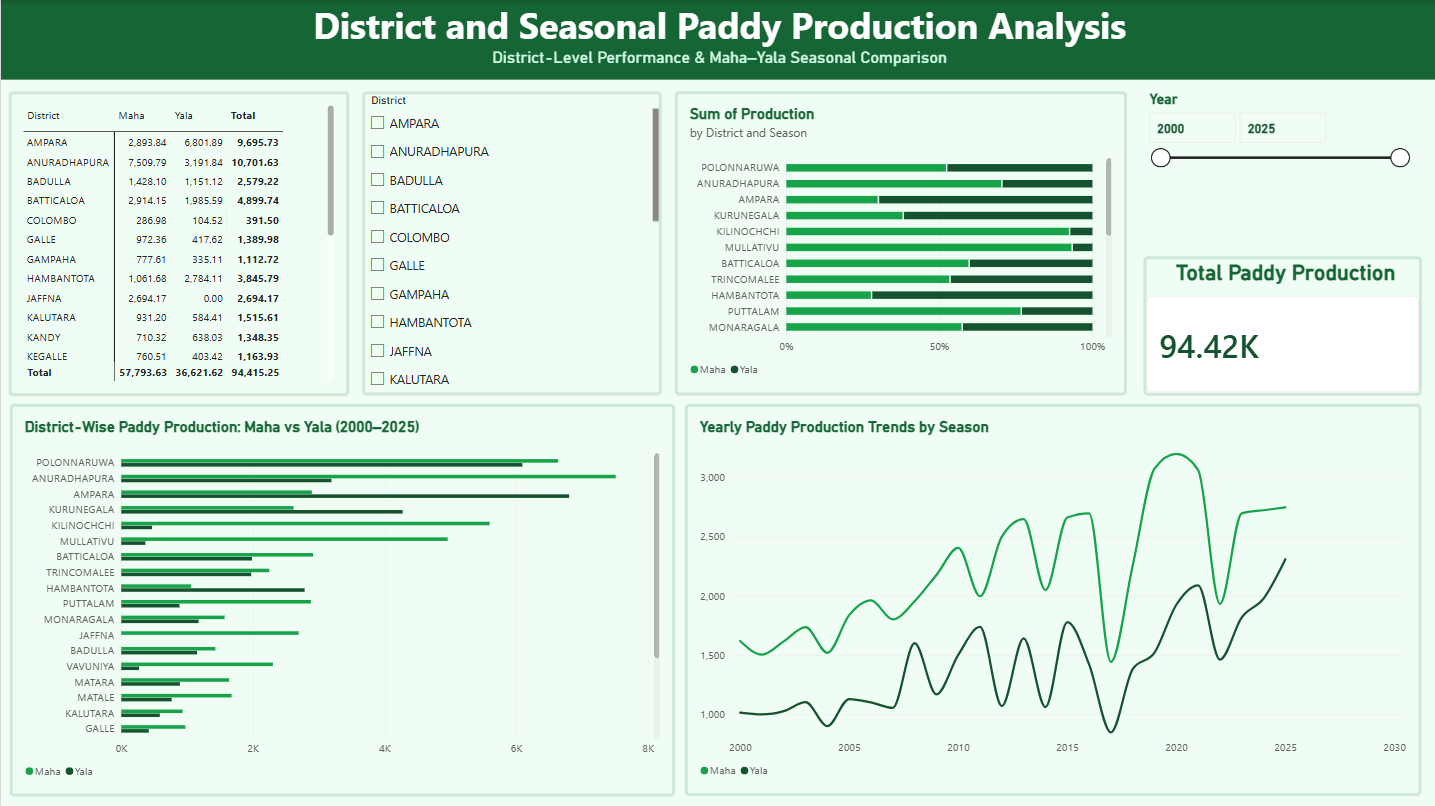

The dashboard page shown, as its layout file describes it:
{"tool":"powerbi","page":{"name":"District & Seasonal Analysis","canvas":[1920,1080],"ordinal":1},"visuals":[{"type":"textbox","box":[0,0,1920,106],"z":0},{"type":"clusteredBarChart","title":"District-Wise Paddy Production: Maha vs Yala (2000–2025)","fields":{"Category":["Paddy Production.District"],"Series":["Paddy Production.Season"],"Y":["Sum(Paddy Production.Production)"]},"box":[10.9,539.3,888.5,524.8],"z":1000},{"type":"slicer","fields":{"Values":["Districts.District"]},"box":[482,122,400,406],"z":2000},{"type":"slicer","fields":{"Values":["Years.Year"]},"box":[1526,122,372,204],"z":3000},{"type":"lineChart","title":"Yearly Paddy Production Trends by Season","fields":{"Category":["Paddy Production.Year"],"Series":["Paddy Production.Season"],"Y":["Sum(Paddy Production.Production)"]},"box":[914,540,984,524],"z":4000},{"type":"cardVisual","title":"Total Paddy Production","fields":{"Data":["Paddy Production.Total Paddy Production"]},"box":[1526,342,372,186],"z":5000},{"type":"pivotTable","fields":{"Columns":["Paddy Production.Season"],"Rows":["Paddy Production.District"],"Values":["Paddy Production.Total Paddy Production"]},"box":[10.3,121.4,454.9,407.5],"z":6000},{"type":"hundredPercentStackedBarChart","fields":{"Category":["Paddy Production.District"],"Series":["Paddy Production.Season"],"Y":["Sum(Paddy Production.Production)"]},"box":[900,122,604,406],"z":7000}]}

Visuals, with their boxes in screenshot pixels (x1, y1, x2, y2), scaled from the page's 1920x1080 canvas onto the 1435x806 screenshot:
textbox: (left=0, top=0, right=1434, bottom=79)
"District-Wise Paddy Production: Maha vs Yala (2000–2025)" clusteredBarChart: (left=8, top=402, right=672, bottom=794)
slicer - Districts.District: (left=360, top=91, right=659, bottom=394)
slicer - Years.Year: (left=1141, top=91, right=1419, bottom=243)
"Yearly Paddy Production Trends by Season" lineChart: (left=683, top=403, right=1419, bottom=794)
"Total Paddy Production" cardVisual: (left=1141, top=255, right=1419, bottom=394)
pivotTable - Paddy Production.Season x Paddy Production.District: (left=8, top=91, right=348, bottom=395)
hundredPercentStackedBarChart - Paddy Production.District x Paddy Production.Season: (left=673, top=91, right=1124, bottom=394)
